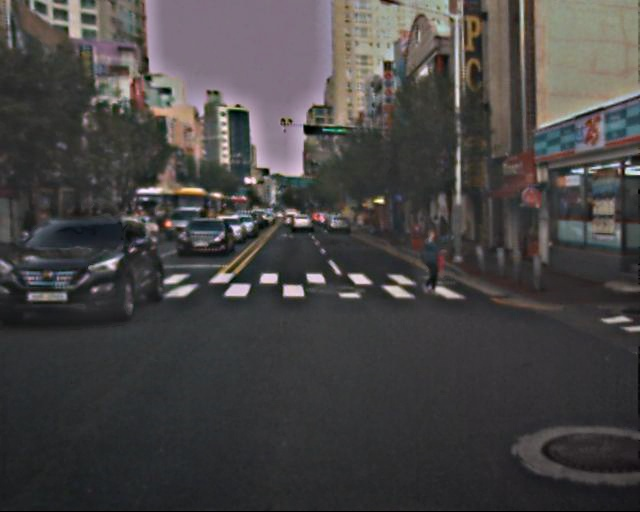person: (416, 223, 449, 300), (420, 215, 451, 243)
